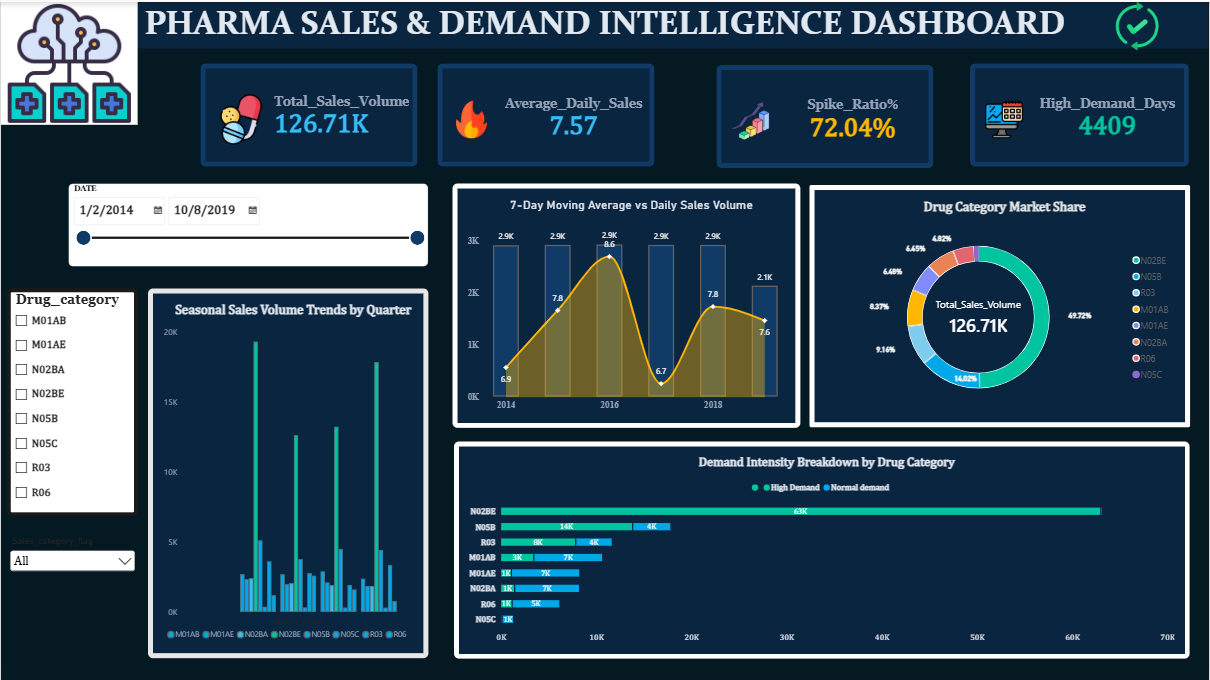

The dashboard page shown, as its layout file describes it:
{"tool":"powerbi","page":{"name":"Page 1","canvas":[1920,1080],"ordinal":0},"visuals":[{"type":"shape","title":"PHARMA SALES & DEMAND INTELLIGENCE DASHBOARD","box":[0,0,1920.7,74],"z":0},{"type":"image","box":[0,0,217.1,195.6],"z":1000},{"type":"image","box":[1694,0,226.7,76.3],"z":2000},{"type":"cardVisual","fields":{"Data":["featured enginnered sales 1.Total_Sales_Volume"]},"box":[317.3,97.8,346,164.6],"z":3000},{"type":"cardVisual","fields":{"Data":["featured enginnered sales 1.High_Demand_Days"]},"box":[1541.3,97.8,348.3,164.6],"z":4000},{"type":"cardVisual","fields":{"Data":["featured enginnered sales 1.average_Daily_sales"]},"box":[694.3,97.8,346,164.6],"z":5000},{"type":"cardVisual","fields":{"Data":["featured enginnered sales 1.spike_ratio_pct"]},"box":[1138.1,100.2,346,164.6],"z":6000},{"type":"clusteredColumnChart","title":"Seasonal Sales Volume Trends by Quarter","fields":{"Category":["featured enginnered sales 1.Quater_name"],"Series":["featured enginnered sales 1.drug_category"],"Y":["featured enginnered sales 1.Total_Sales_Volume"]},"box":[234,456,446,588],"z":7000},{"type":"lineClusteredColumnComboChart","title":"7-Day Moving Average vs Daily Sales Volume","fields":{"Category":["featured enginnered sales 1.datum.Variation.Date Hierarchy.Year","featured enginnered sales 1.datum.Variation.Date Hierarchy.Quarter","featured enginnered sales 1.datum.Variation.Date Hierarchy.Month","featured enginnered sales 1.datum.Variation.Date Hierarchy.Day"],"Y":["CountNonNull(featured enginnered sales 1.sales_volume)"],"Y2":["Avg(featured enginnered sales 1.Ma_7_days)"]},"box":[718,288,553.5,388.9],"z":8000},{"type":"donutChart","title":"Drug Category Market Share","fields":{"Category":["featured enginnered sales 1.drug_category"],"Y":["featured enginnered sales 1.Total_Sales_Volume"]},"box":[1285,290,605,385],"z":9000},{"type":"barChart","title":"Demand Intensity Breakdown by Drug Category","fields":{"Category":["featured enginnered sales 1.drug_category"],"Series":["featured enginnered sales 1.Sales_category_flag"],"Y":["featured enginnered sales 1.Total_Sales_Volume"]},"box":[720,700,1170,345],"z":10000},{"type":"slicer","fields":{"Values":["featured enginnered sales 1.datum"]},"box":[108,288,572,132],"z":11000},{"type":"slicer","fields":{"Values":["featured enginnered sales 1.drug_category"]},"box":[10,456,208,362],"z":12000},{"type":"slicer","fields":{"Values":["featured enginnered sales 1.Sales_category_flag"]},"box":[10,850,208,80],"z":13000}]}

Visuals, with their boxes in screenshot pixels (x1, y1, x2, y2), scaled from the page's 1920x1080 canvas onto the 1210x680 screenshot:
"PHARMA SALES & DEMAND INTELLIGENCE DASHBOARD" shape: (0,0,1209,47)
image: (0,0,137,123)
image: (1068,0,1209,48)
cardVisual - featured enginnered sales 1.Total_Sales_Volume: (200,62,418,165)
cardVisual - featured enginnered sales 1.High_Demand_Days: (971,62,1191,165)
cardVisual - featured enginnered sales 1.average_Daily_sales: (438,62,656,165)
cardVisual - featured enginnered sales 1.spike_ratio_pct: (717,63,935,167)
"Seasonal Sales Volume Trends by Quarter" clusteredColumnChart: (147,287,429,657)
"7-Day Moving Average vs Daily Sales Volume" lineClusteredColumnComboChart: (452,181,801,426)
"Drug Category Market Share" donutChart: (810,183,1191,425)
"Demand Intensity Breakdown by Drug Category" barChart: (454,441,1191,658)
slicer - featured enginnered sales 1.datum: (68,181,429,264)
slicer - featured enginnered sales 1.drug_category: (6,287,137,515)
slicer - featured enginnered sales 1.Sales_category_flag: (6,535,137,586)
